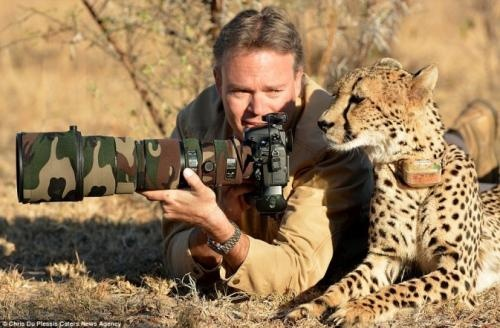falling: (115, 5, 387, 315)
